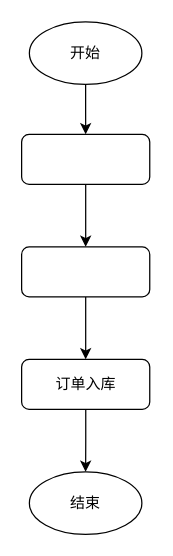
This 173x556 diagram has some shape labels left out. Each missing label, with the box of its shape:
将订单列表前n单标志为扣量: (20, 246, 150, 297)
计算出扣量数n: (20, 133, 150, 184)
